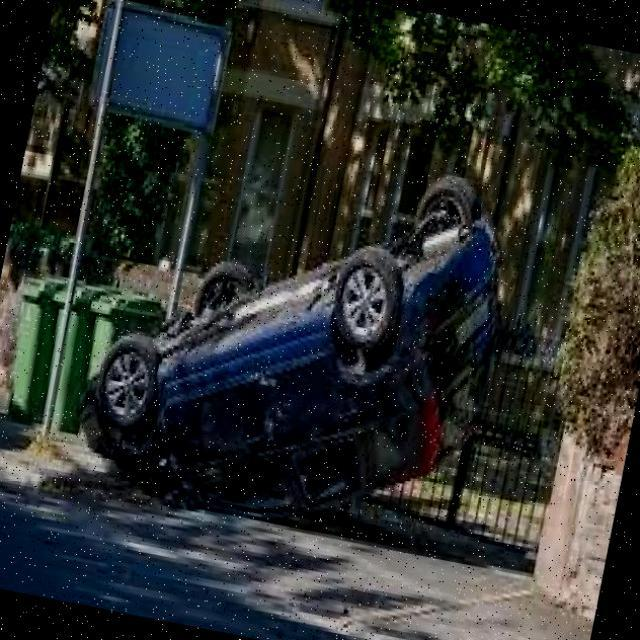accident: (61, 109, 538, 570)
